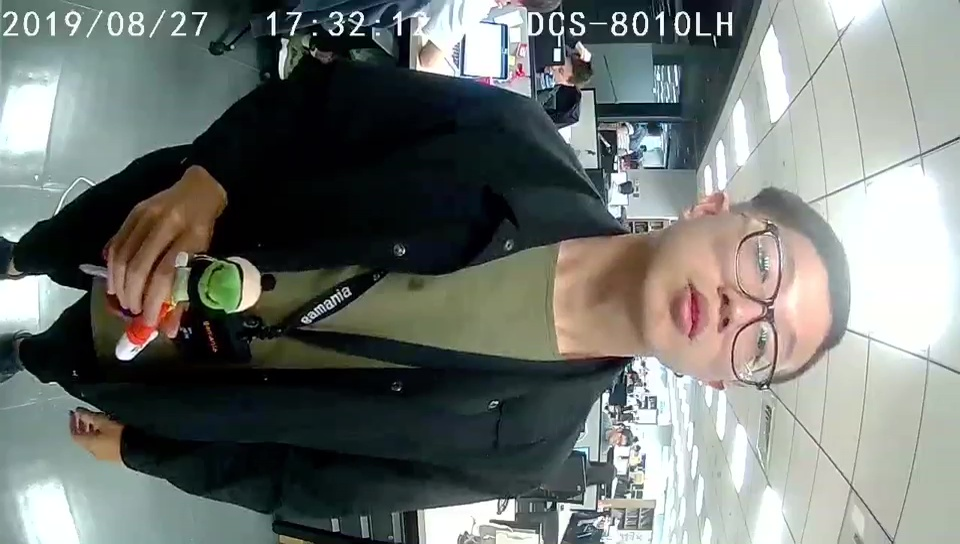goofy: (112, 245, 261, 364)
